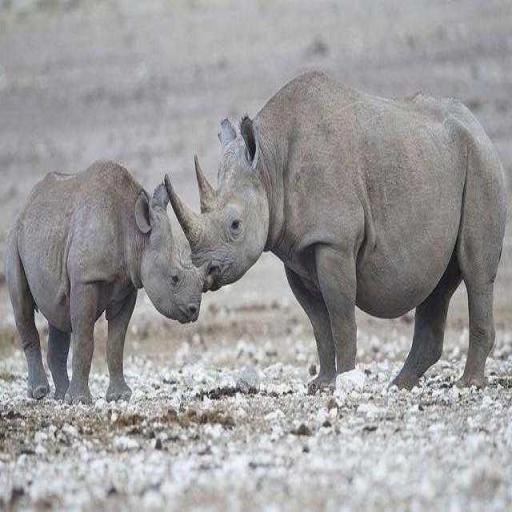Rhino: (164, 68, 508, 396), (4, 156, 201, 405)
